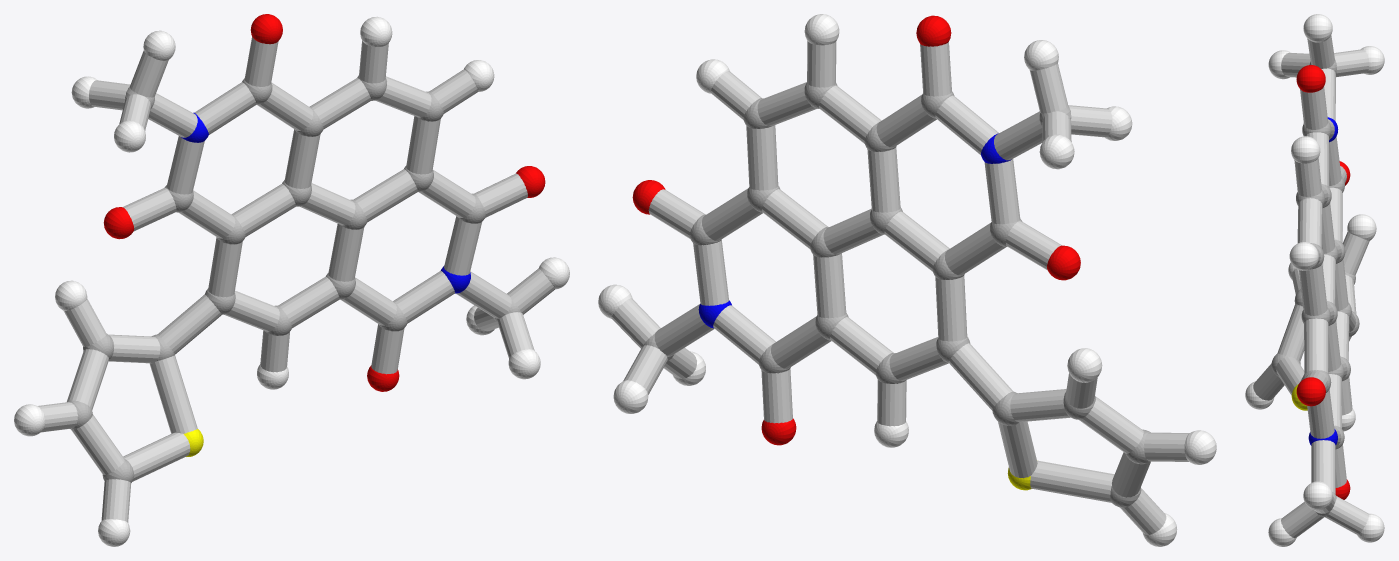
Rendered from Dimethyl_Naphthalene_Dicarboximide_Phi_30_Theta_20_Thiophene.glb.
3 renders of one model, left to right at view 1: azimuth 30°, elevation 25°; view 2: azimuth 150°, elevation 25°; view 3: azimuth 270°, elevation 25°, orthographic. The views are drawn at different scales.
Parts seen in each view (by area): view 1: grp14119, grp7241, grp1, grp12309, grp11585; view 2: grp14119, grp7241, grp1, grp12309, grp11585; view 3: grp14119, grp7241, grp1, grp12309, grp11585.
Boxes of the visible parts, x1,y1,x2,y2 form: grp14119: (38,36,554,522); grp7241: (14,16,569,546); grp1: (67,75,521,482); grp12309: (103,14,545,391); grp11585: (181,112,470,293); grp14119: (611,41,1189,534); grp7241: (598,14,1216,546); grp1: (643,83,1150,507); grp12309: (632,15,1080,445); grp11585: (698,133,1011,328); grp14119: (1253,35,1369,538); grp7241: (1245,14,1384,546); grp1: (1271,59,1359,517); grp12309: (1296,65,1350,499); grp11585: (1308,117,1338,445).
Size of the model in its own units: 12.01 by 9.66 by 2.85.
